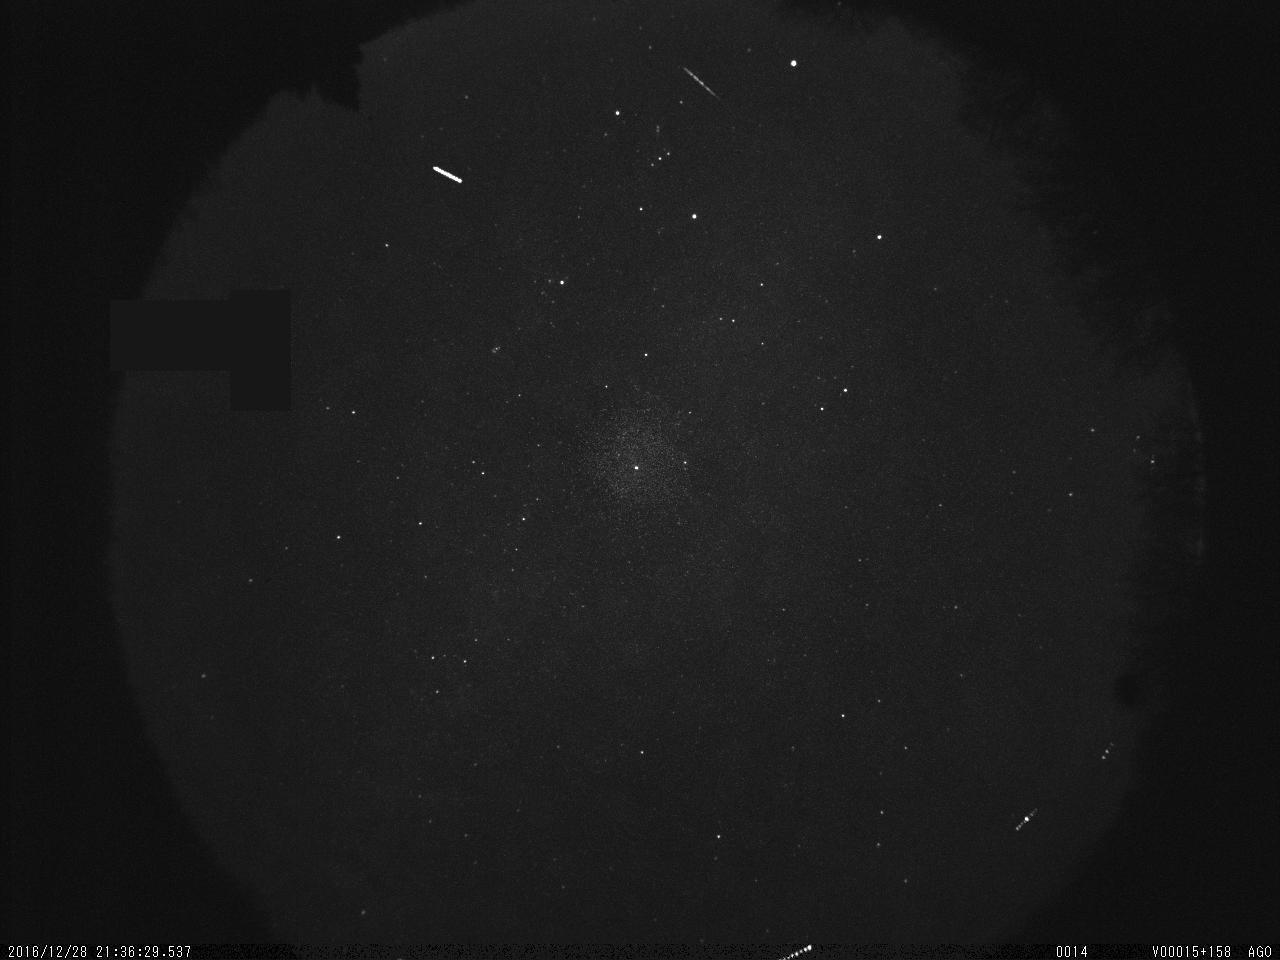Meteor: (679, 62, 723, 103)
